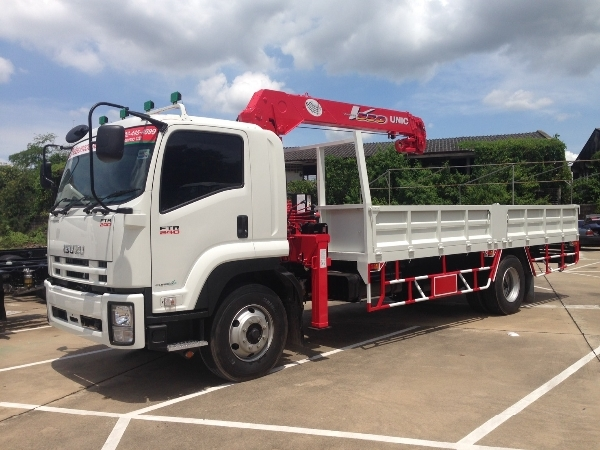truck: (42, 89, 584, 380)
